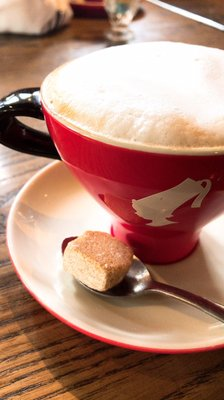salad: (71, 255, 224, 323)
sushi: (39, 40, 224, 265)
